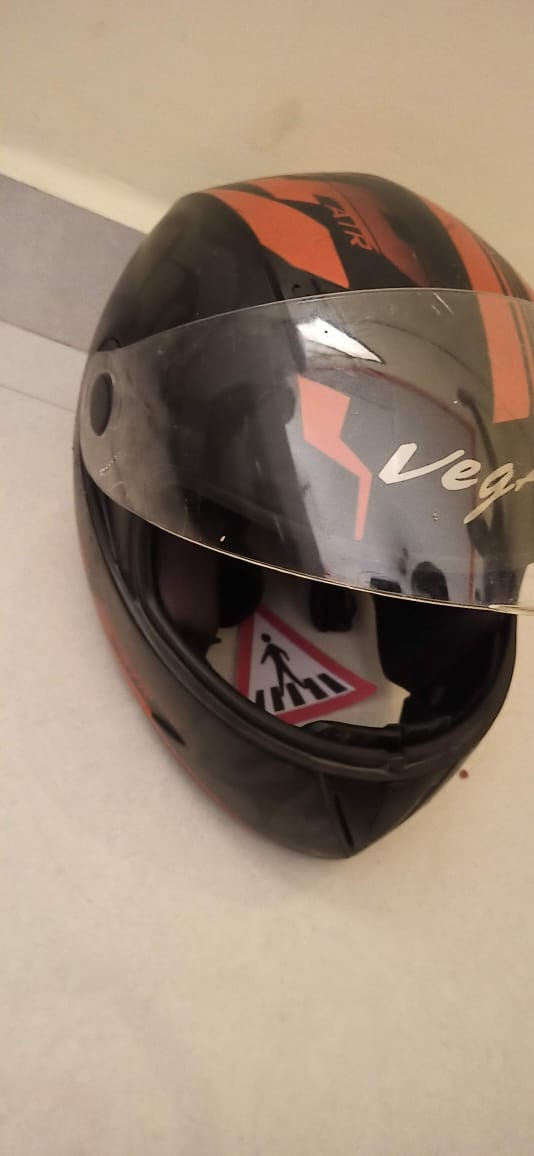PEDESTRIAN CROSSING: (220, 603, 404, 728)
